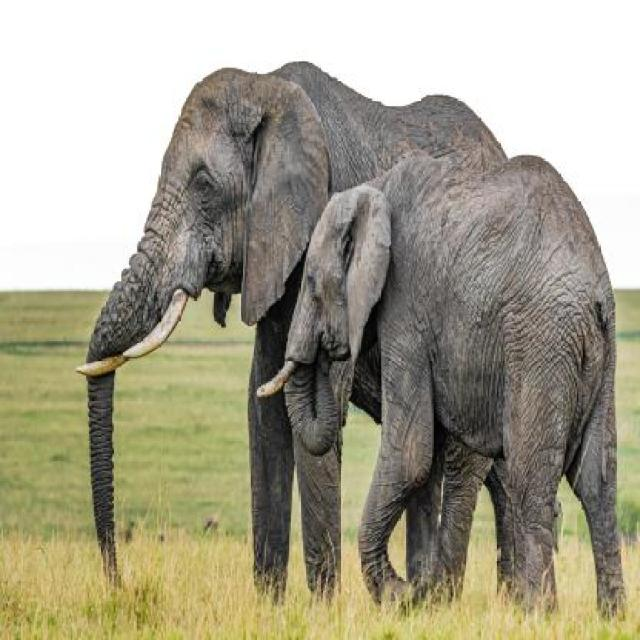Elephant: (53, 9, 485, 608), (266, 152, 640, 640)
